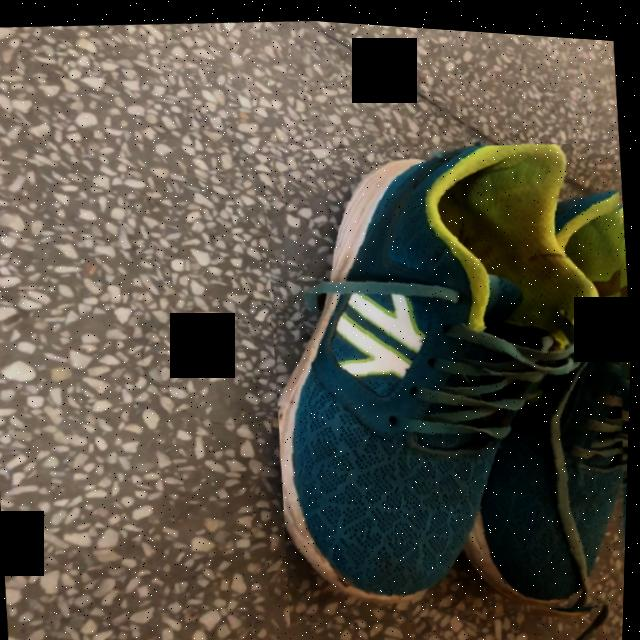shoe: (280, 136, 623, 602)
